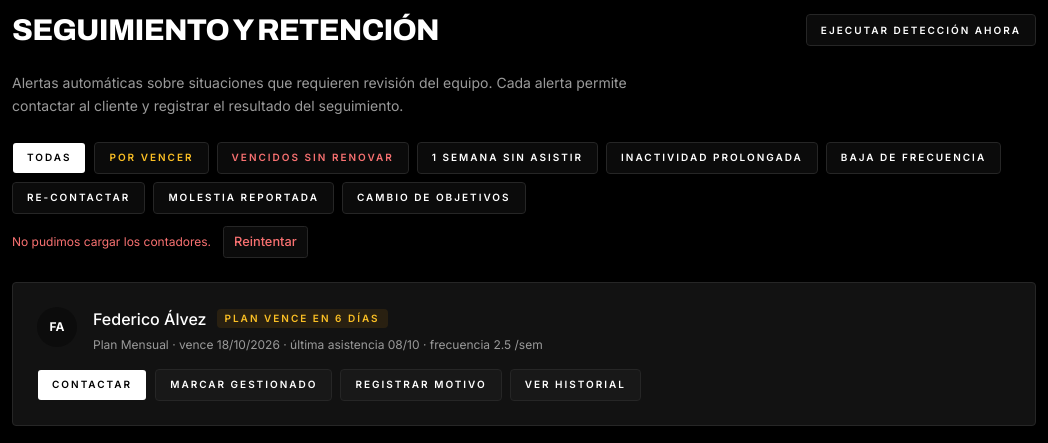
FollowupView counters › shows an error state for the counters, still lists alerts and retries
Check: the message shows "No pudimos cargar los contadores.", box [12,234,211,248]
Check: the text "Federico Álvez" is shown, box [93,306,206,330]
What coordinates should you click on to do the following:
click the button "Reintentar"
I would click on:
 (265, 242)
Its box is [223,226,308,258].
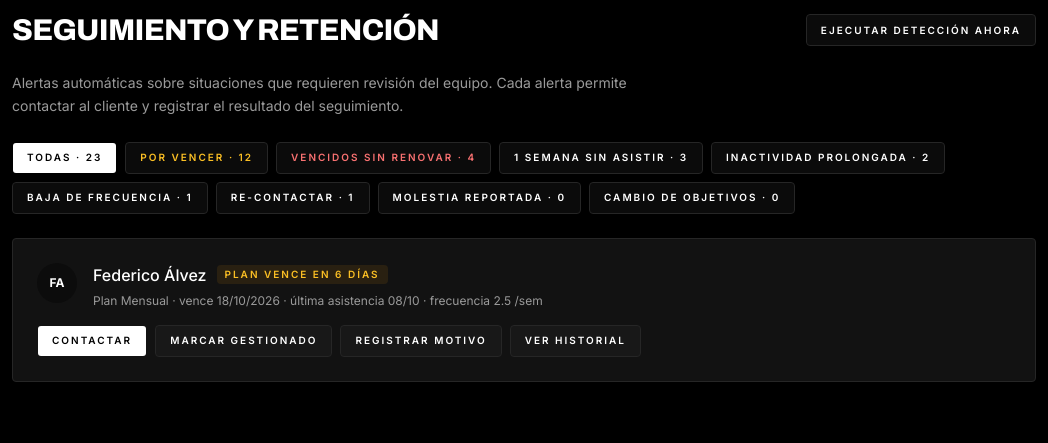
Check: the button "Por vencer · 12" is shown, box [125,142,268,174]
Check: the text "No pudimos cargar los contadores." is gone
